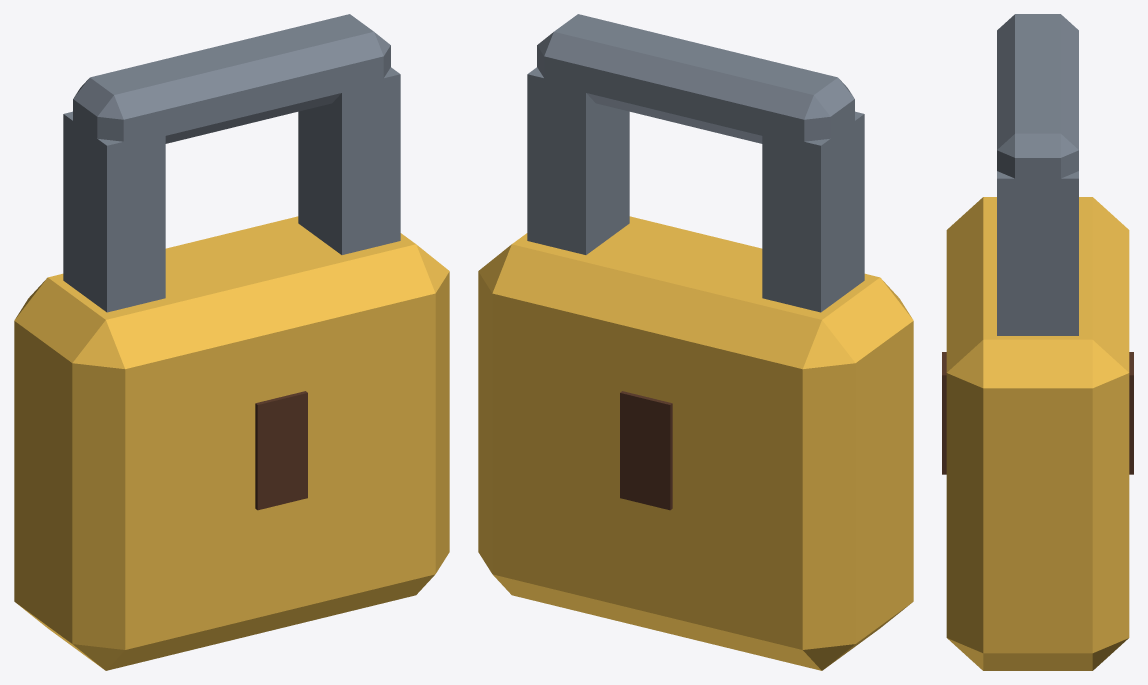
The model's file is lock.glb.
3 views of the same model, side by side, from view 1: azimuth 30°, elevation 25°; view 2: azimuth 150°, elevation 25°; view 3: azimuth 270°, elevation 25° (orthographic). The views are drawn at different scales.
Parts seen in each view (by area): view 1: lock; view 2: lock; view 3: lock.
Part boxes in pixels (x1,y1,x2,y2): lock: (14,14,449,670); lock: (478,14,913,670); lock: (942,14,1133,670).
Size of the model in its own units: 0.9 by 1.27 by 0.42.
1 material, 1 textured.
